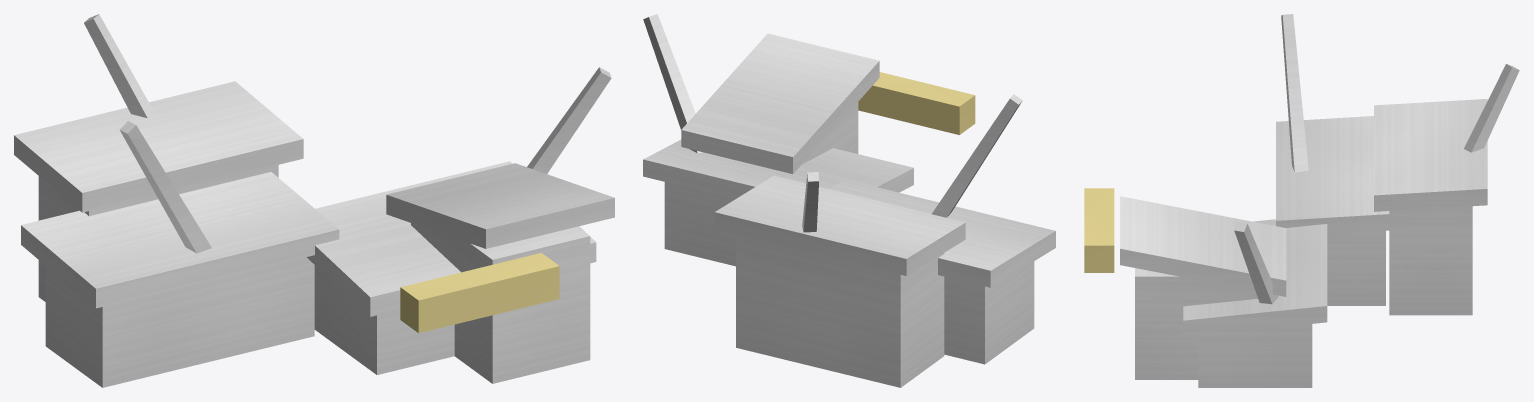
Rendered from ship_chunk_1.obj.
The picture shows the model from 3 angles, left to right: view 1: azimuth 30°, elevation 25°; view 2: azimuth 150°, elevation 25°; view 3: azimuth 270°, elevation 25°; orthographic projection. The views are drawn at different scales.
Visible parts, largest first — view 1: ship_chunk_1; view 2: ship_chunk_1; view 3: ship_chunk_1.
Boxes of the visible parts, left/top/right/bottom form: ship_chunk_1: left=14, top=14, right=614, bottom=387; ship_chunk_1: left=643, top=14, right=1055, bottom=387; ship_chunk_1: left=1084, top=14, right=1519, bottom=387.
Size of the model in its own units: 1.58 by 0.8064 by 1.44.
